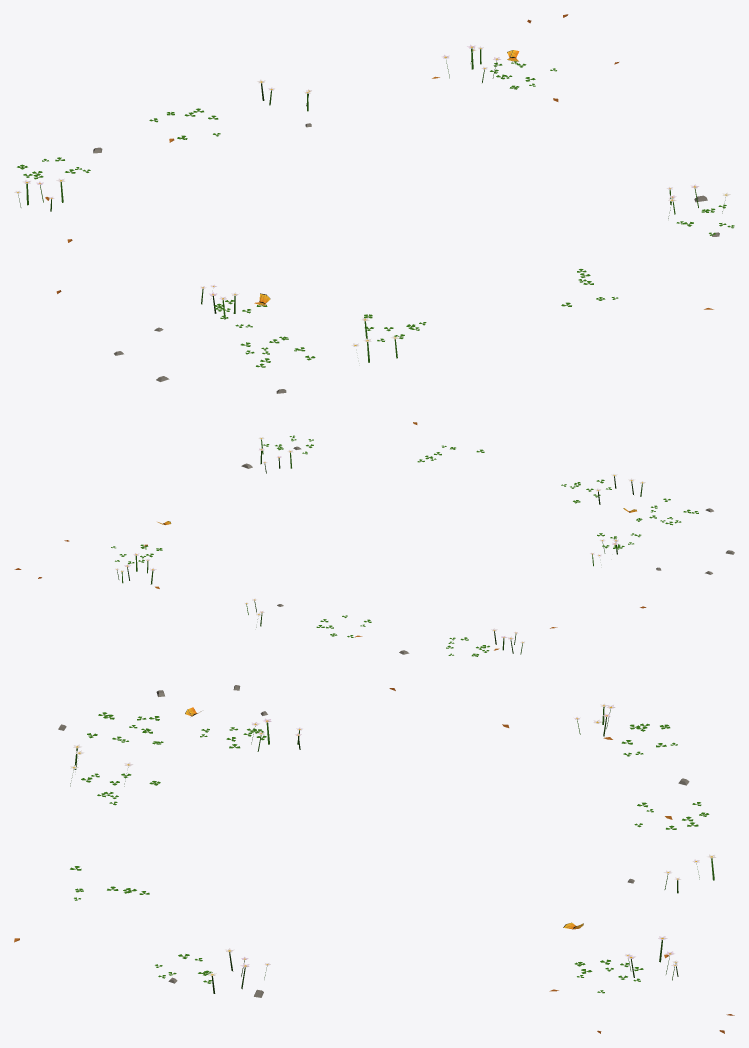
Rendered from nature_around_board.glb.
3 renders of one model, top to bottom at view 1: azimuth 30°, elevation 25°; view 2: azimuth 150°, elevation 25°; view 3: azimuth 270°, elevation 25°, orthographic. The views are drawn at different scales.
Parts seen in each view (by area): view 1: Nature_Scatter_Clovers, Nature_Scatter_Flowers; view 2: Nature_Scatter_Clovers, Nature_Scatter_Flowers; view 3: Nature_Scatter_Clovers, Nature_Scatter_Flowers.
Boxes of the visible parts, box(x1,y1,x2,y2) form: Nature_Scatter_Clovers: box(17, 61, 734, 367); Nature_Scatter_Flowers: box(14, 44, 730, 362); Nature_Scatter_Clovers: box(111, 435, 698, 656); Nature_Scatter_Flowers: box(115, 437, 645, 654); Nature_Scatter_Clovers: box(70, 712, 709, 993); Nature_Scatter_Flowers: box(70, 703, 715, 993).
Size of the model in its own units: 1.81 by 0.1294 by 1.56.
Materials: 1 (1 with a texture image).
